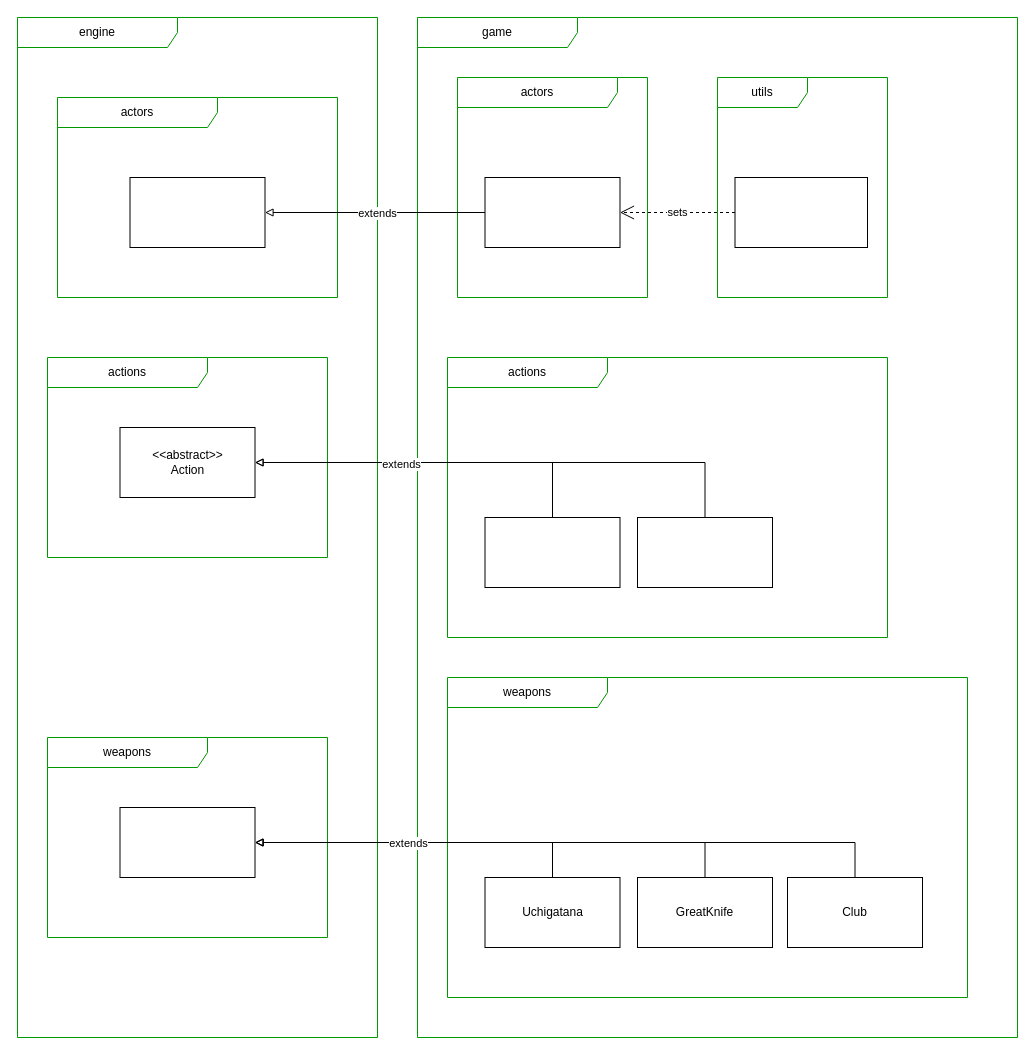
Some shapes in this 1035 by 1055 pixel diagram are drawn without their labels. Here are the shapes that lost their labels. From the top down, the centre of each, then its label:
At [197,212]: "<<abstract>> Actor".
At [552,212]: "Player".
At [801,212]: "ArchetypeManager".
At [552,552]: "QuickStepAction".
At [704,552]: "UnseatheAction".
At [187,842]: "<<abstract>> weaponItem".
